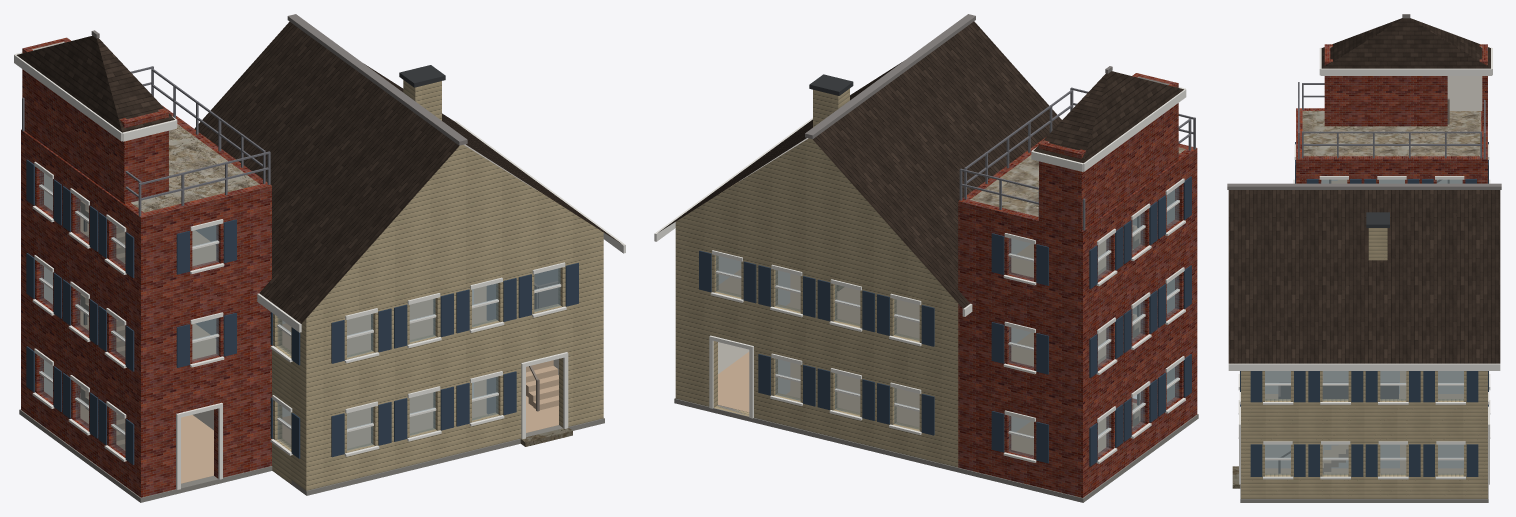
The model's file is ns-cottage-tower.towns-v1.lod0.glb.
The picture shows the model from 3 angles, left to right: view 1: azimuth 30°, elevation 25°; view 2: azimuth 150°, elevation 25°; view 3: azimuth 270°, elevation 25°; orthographic projection. The views are drawn at different scales.
Visible parts, largest first — view 1: ns-cottage-tower; view 2: ns-cottage-tower; view 3: ns-cottage-tower.
Boxes of the visible parts, x1=… form: ns-cottage-tower: x1=14, y1=14, x2=625, y2=502; ns-cottage-tower: x1=654, y1=14, x2=1198, y2=502; ns-cottage-tower: x1=1227, y1=14, x2=1501, y2=502.
Bounding box in the file's own units: 15.03 × 13.29 × 10.
8 materials, 4 textured.
